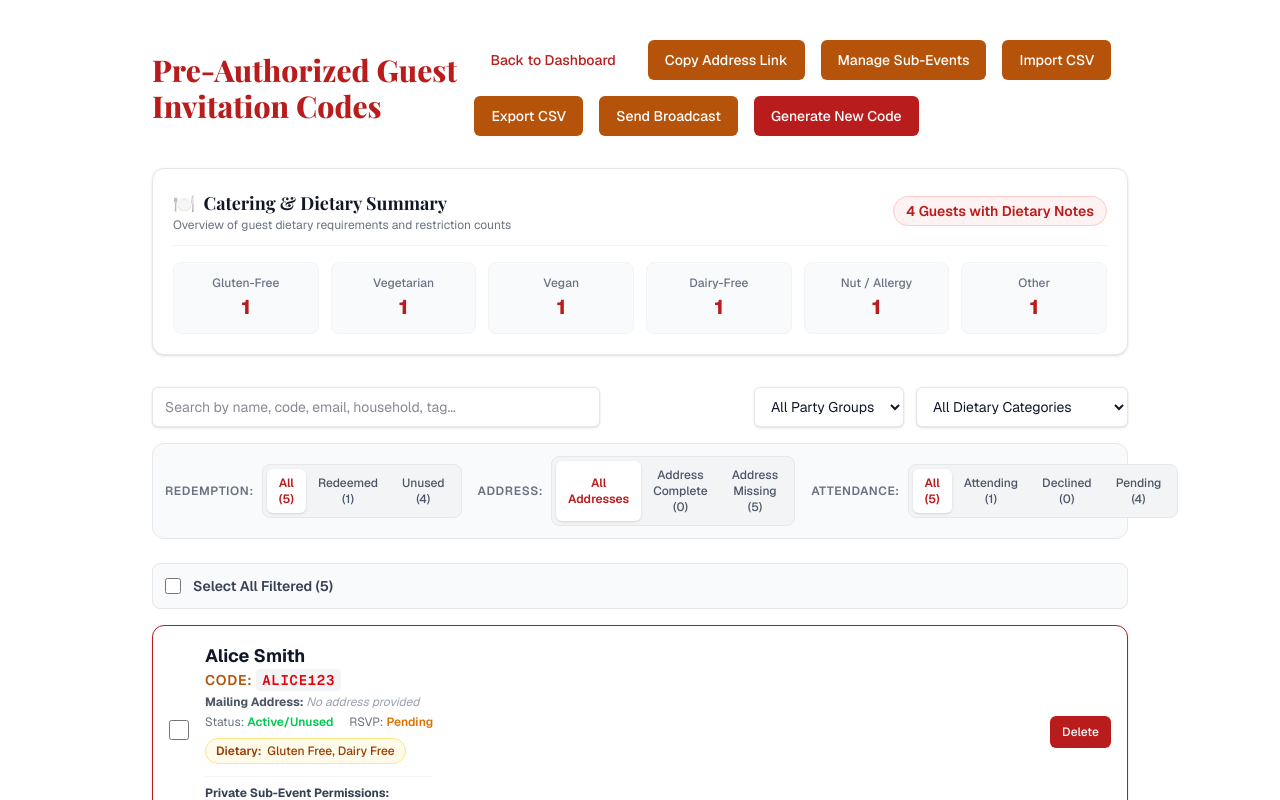
InvitationCodesDashboardPage › filters codes by text search query (guest name, code, email) with trim and case-insensitivity
The width and height of the screenshot is (1280, 800).
Note: Search by guest name with whitespace and uppercase
Type "  ALICE " into the field named "Search invitation codes" at (376, 407), box [152,387,600,427]
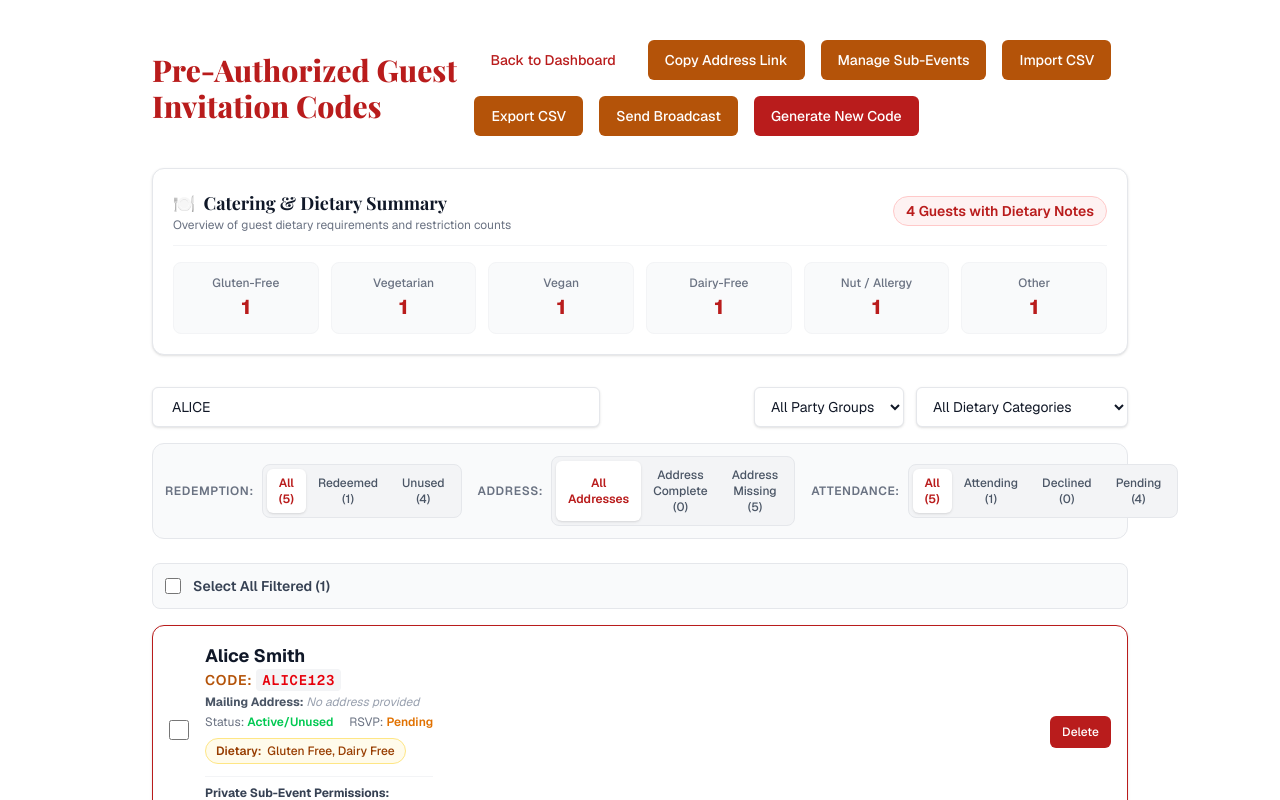
Check: the text "Alice Smith" is shown, box [205,642,305,670]
Check: the text "Bob Jones" is not shown
Note: Search by code
Replace the text in the field named "Search invitation codes" with "bob456" at (376, 407), box [152,387,600,427]
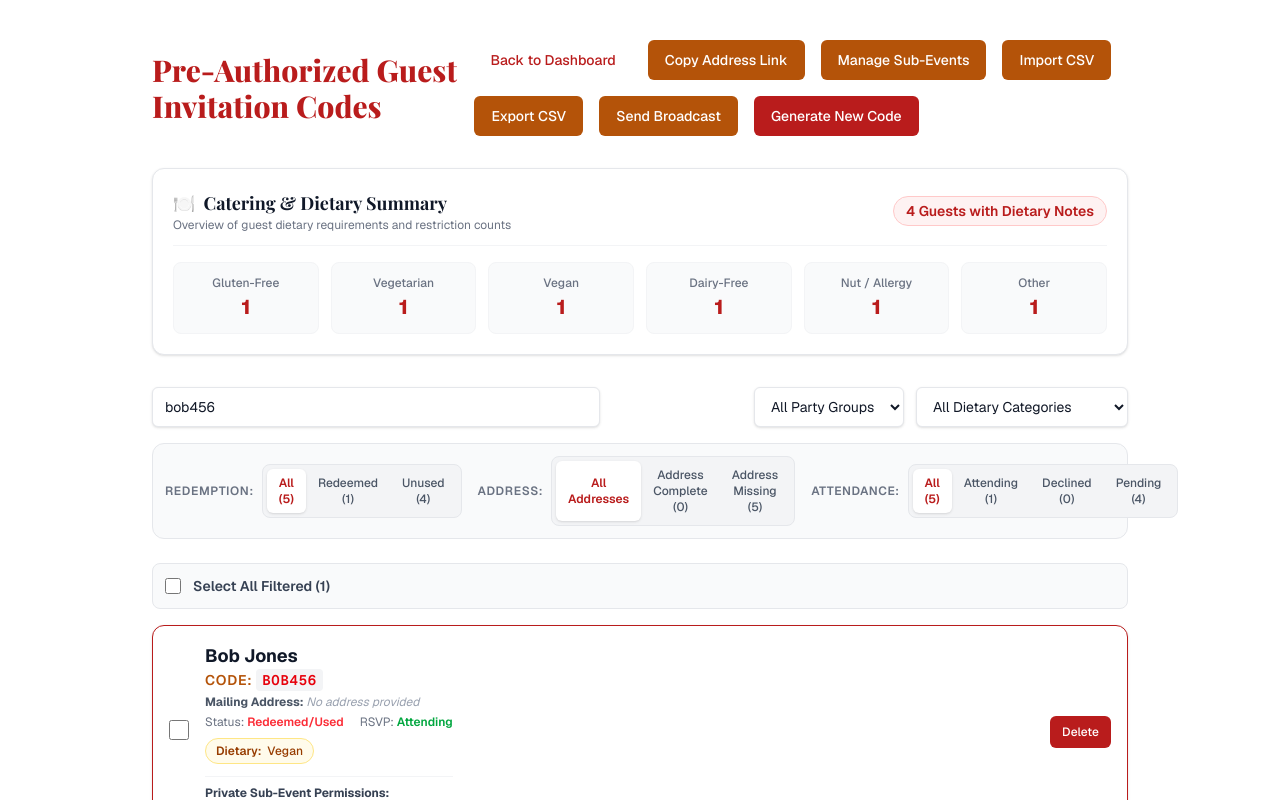
Check: the text "Charlie Brown" is not shown
Check: the text "Alice Smith" is gone
Check: the text "Bob Jones" is shown, box [205,642,298,670]
Note: Search by email
Replace the text in the field named "Search invitation codes" with "charlie@example.com" at (376, 407), box [152,387,600,427]
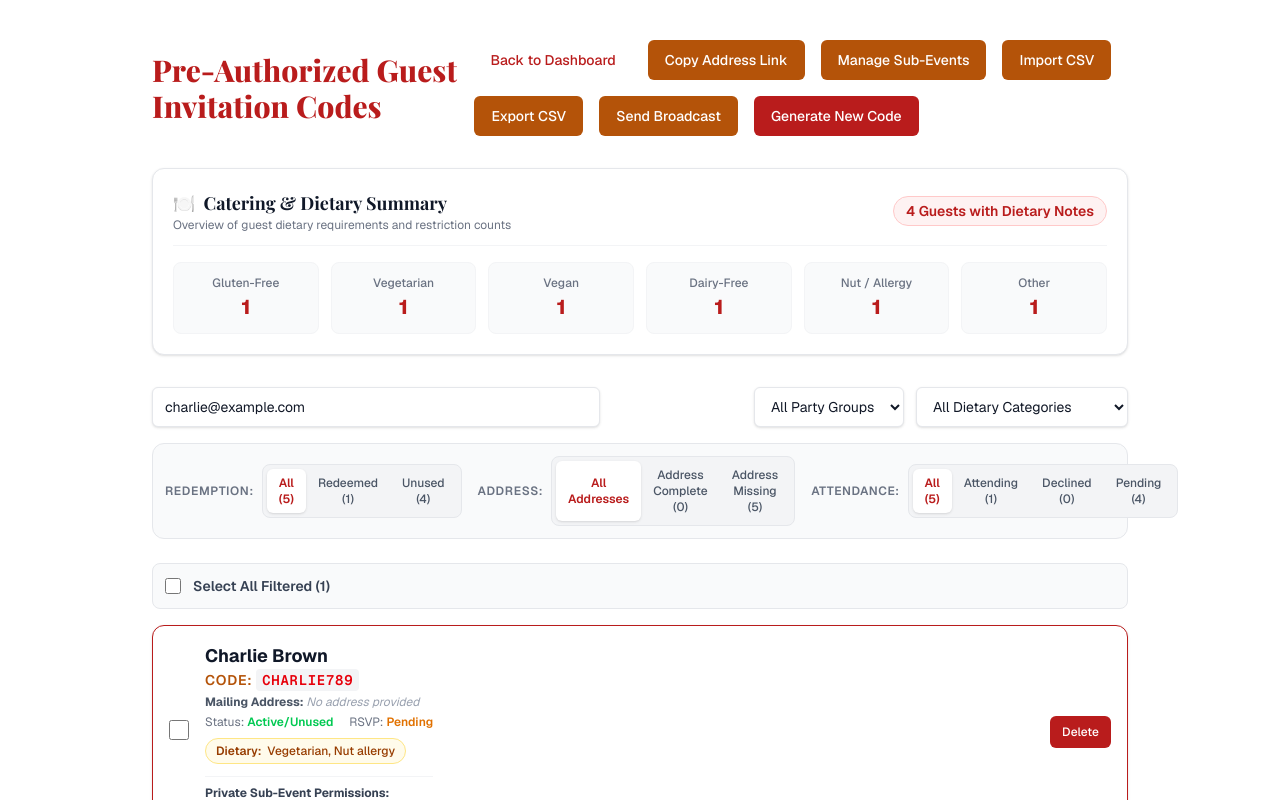
Check: the text "Alice Smith" is not shown
Check: the text "Bob Jones" is gone
Check: the text "Charlie Brown" is shown, box [205,642,328,670]
